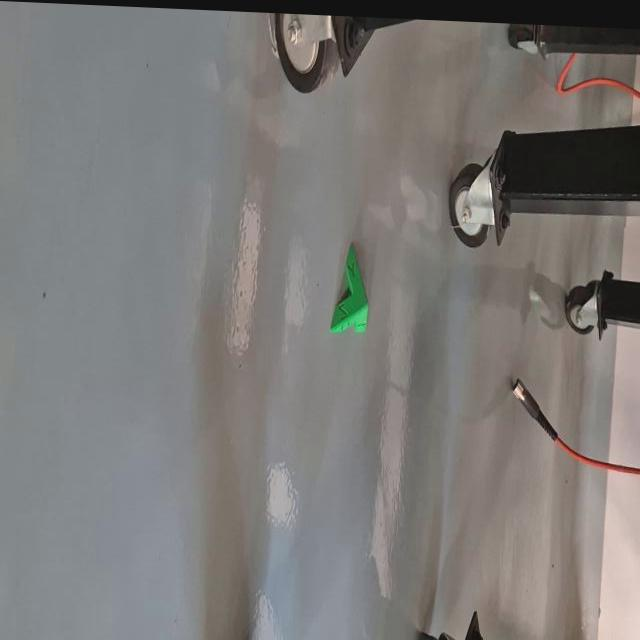eje: (330, 240, 370, 335)
